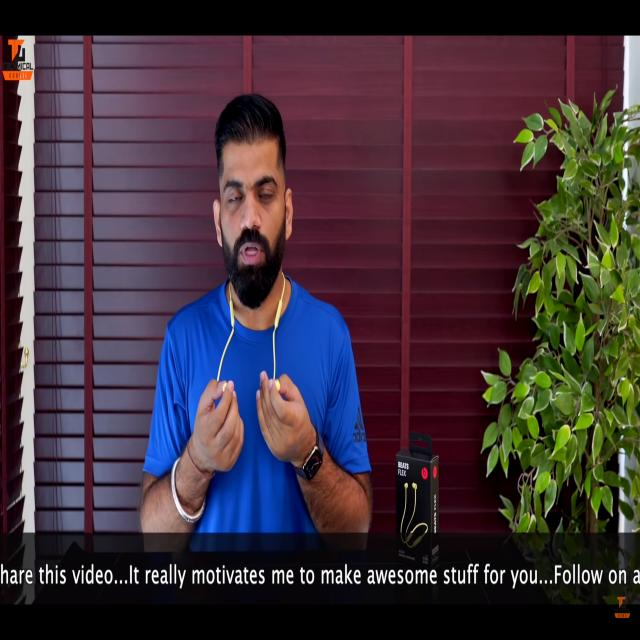Neckband: (216, 268, 286, 396)
